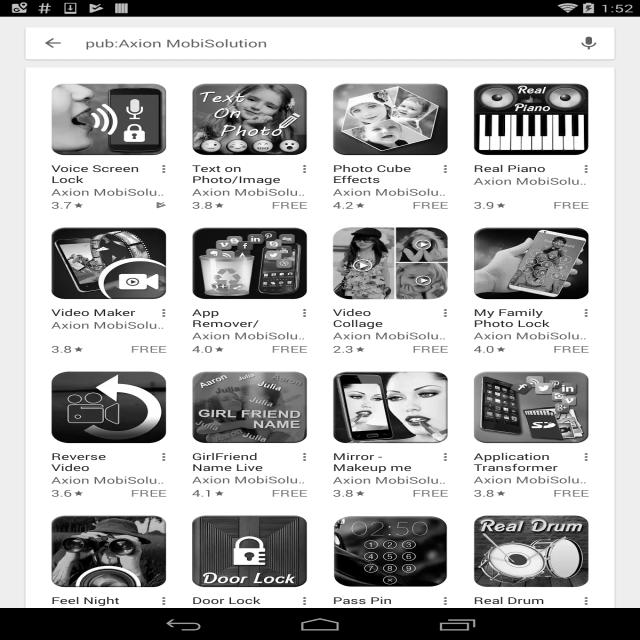ImageButton: (569, 28, 608, 56), (34, 31, 68, 54), (152, 447, 174, 467), (575, 305, 597, 323), (293, 160, 312, 177), (156, 160, 173, 178), (437, 304, 453, 320)
ImageView: (331, 223, 448, 299), (332, 82, 447, 158), (188, 84, 308, 155), (189, 515, 309, 586), (472, 370, 586, 444), (50, 372, 167, 443)
TextView: (81, 33, 281, 54), (326, 448, 439, 485), (188, 306, 293, 343), (47, 161, 150, 198), (467, 160, 572, 189), (43, 591, 134, 607)
